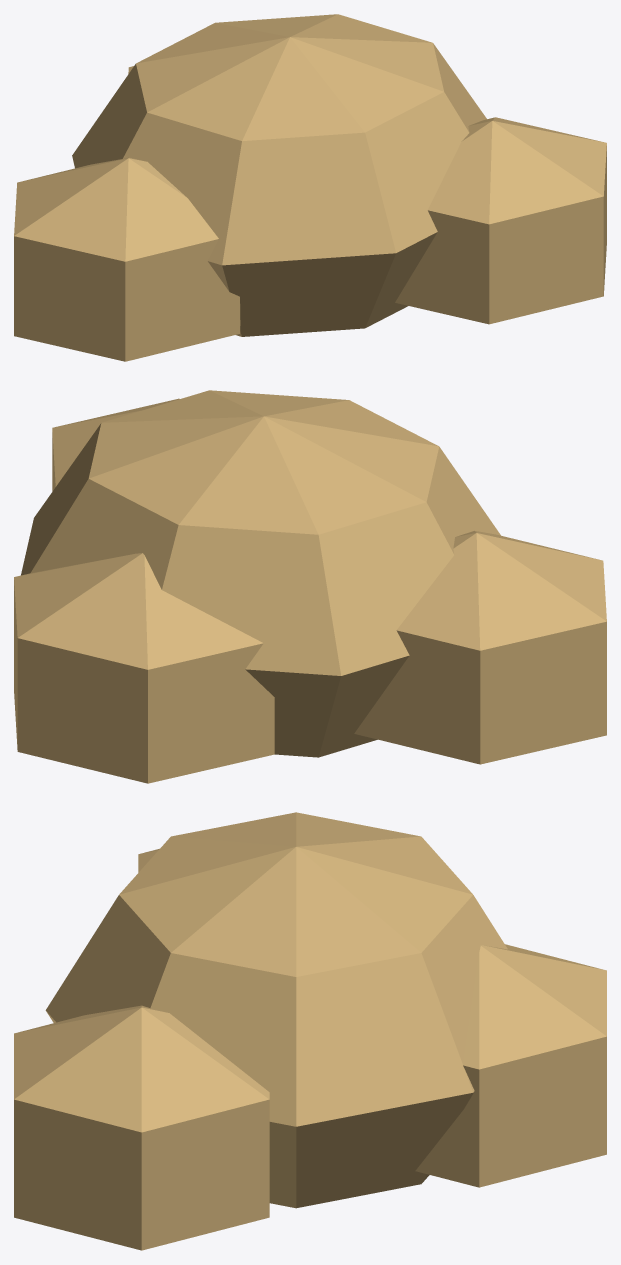
3 renders of one model, top to bottom at view 1: azimuth 30°, elevation 25°; view 2: azimuth 150°, elevation 25°; view 3: azimuth 270°, elevation 25°, orthographic. The views are drawn at different scales.
Visible parts, largest first — view 1: SC_LarchShrubOchre; view 2: SC_LarchShrubOchre; view 3: SC_LarchShrubOchre.
Part boxes in pixels (x1=…): SC_LarchShrubOchre: x1=14, y1=14, x2=606, y2=361; SC_LarchShrubOchre: x1=14, y1=390, x2=606, y2=783; SC_LarchShrubOchre: x1=14, y1=812, x2=606, y2=1250.
Size of the model in its own units: 1.47 by 0.72 by 1.18.
